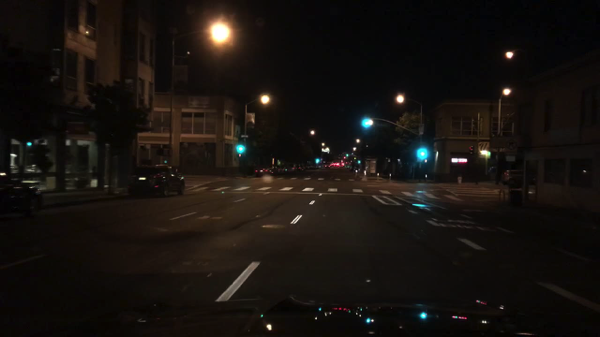car: (130, 163, 188, 198), (0, 178, 45, 219), (502, 169, 535, 188), (256, 167, 270, 176), (290, 163, 297, 172), (285, 165, 292, 173), (270, 166, 277, 174), (278, 165, 284, 174), (298, 164, 305, 170), (325, 164, 330, 169), (338, 165, 344, 169)
traffic light: (237, 143, 243, 157), (416, 148, 425, 157), (363, 116, 369, 129), (468, 146, 474, 157), (316, 158, 321, 166), (358, 159, 361, 166), (346, 153, 349, 158)
traffic sign: (478, 142, 490, 151), (506, 140, 516, 148), (240, 135, 250, 138)
truck: (364, 157, 377, 176)
